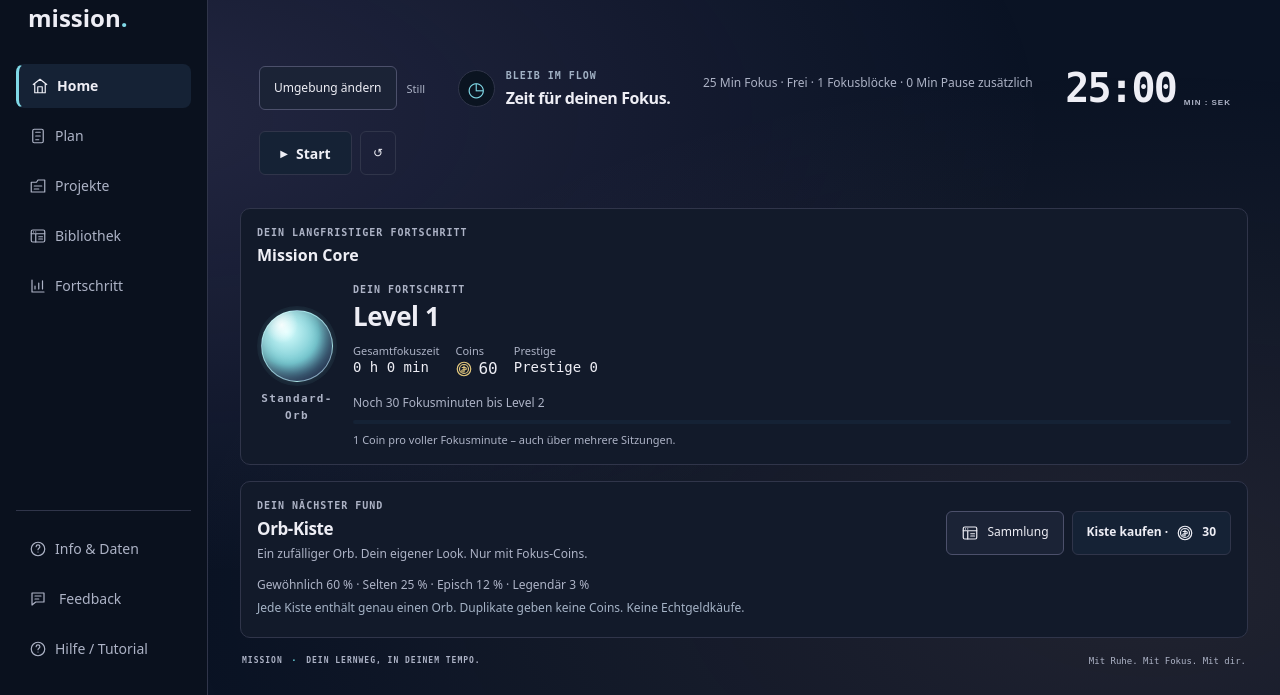
Test: Kisten und Sammlung in der App › beendet die Öffnungsanimation automatisch ohne weitere Transaktion
(page scrolled)
Click the button with aria-label "Kiste kaufen · 30 Coins": x=1151, y=533 x1=1072 y1=511 x2=1231 y2=555
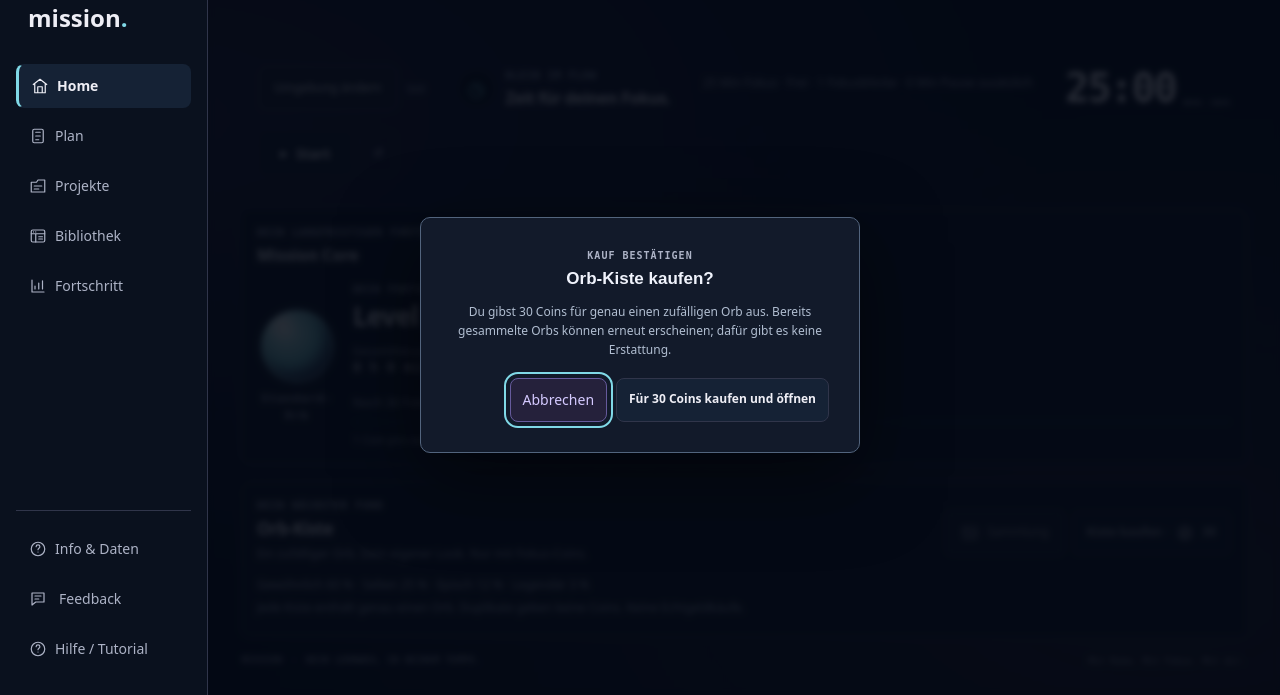
Click the button "Für 30 Coins kaufen und öffnen": x=722, y=400 x1=616 y1=378 x2=829 y2=422
Wait 900 ms
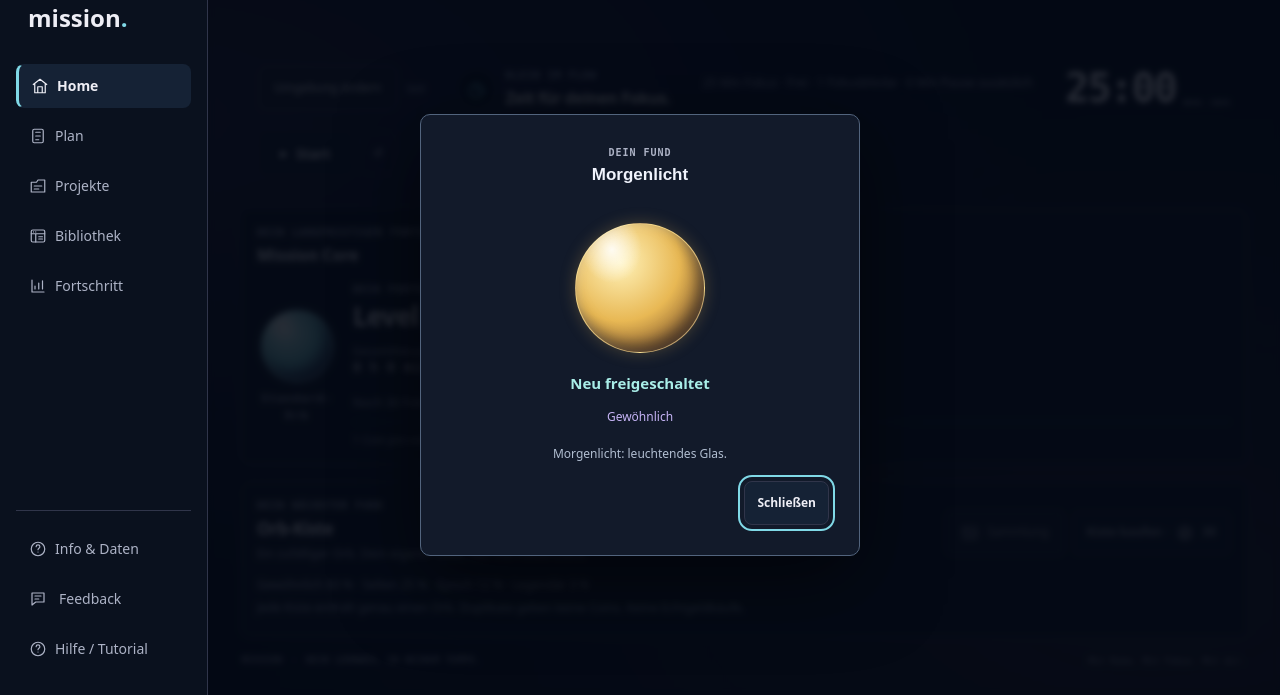
expect the dialog "Morgenlicht" is shown: met, box x1=420 y1=114 x2=860 y2=556
